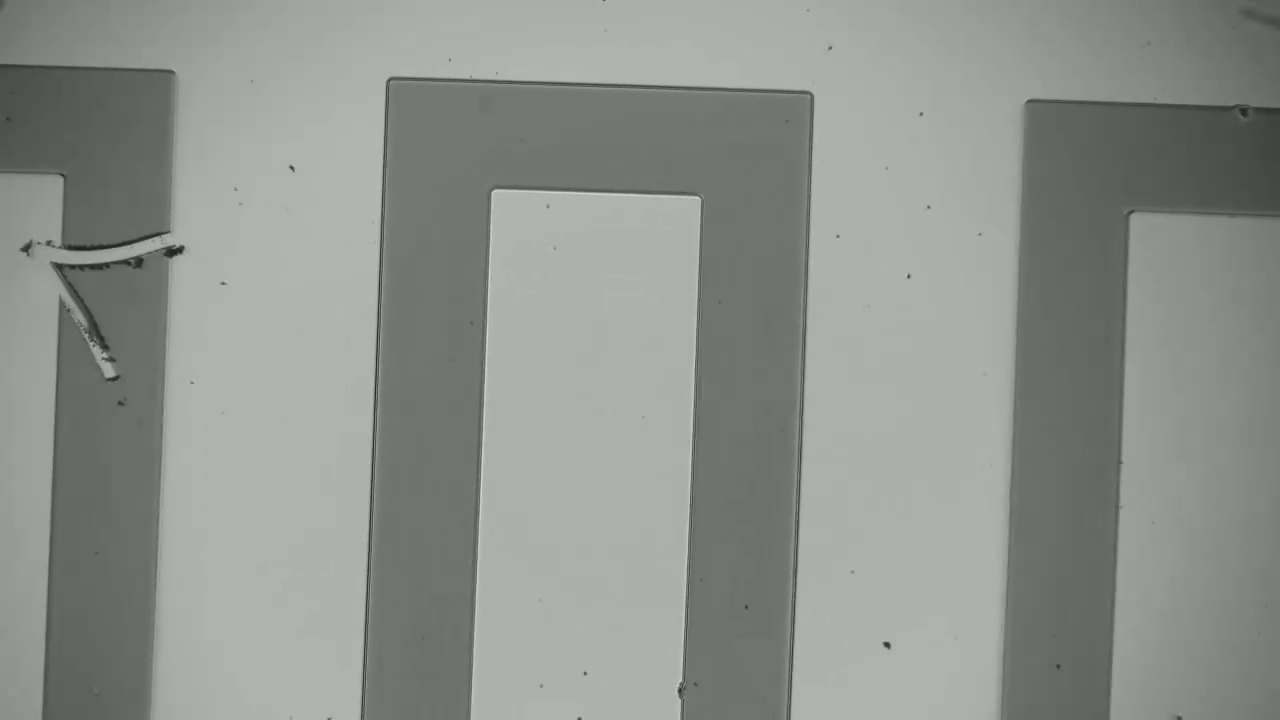Short_circuit: (25, 204, 190, 295)
